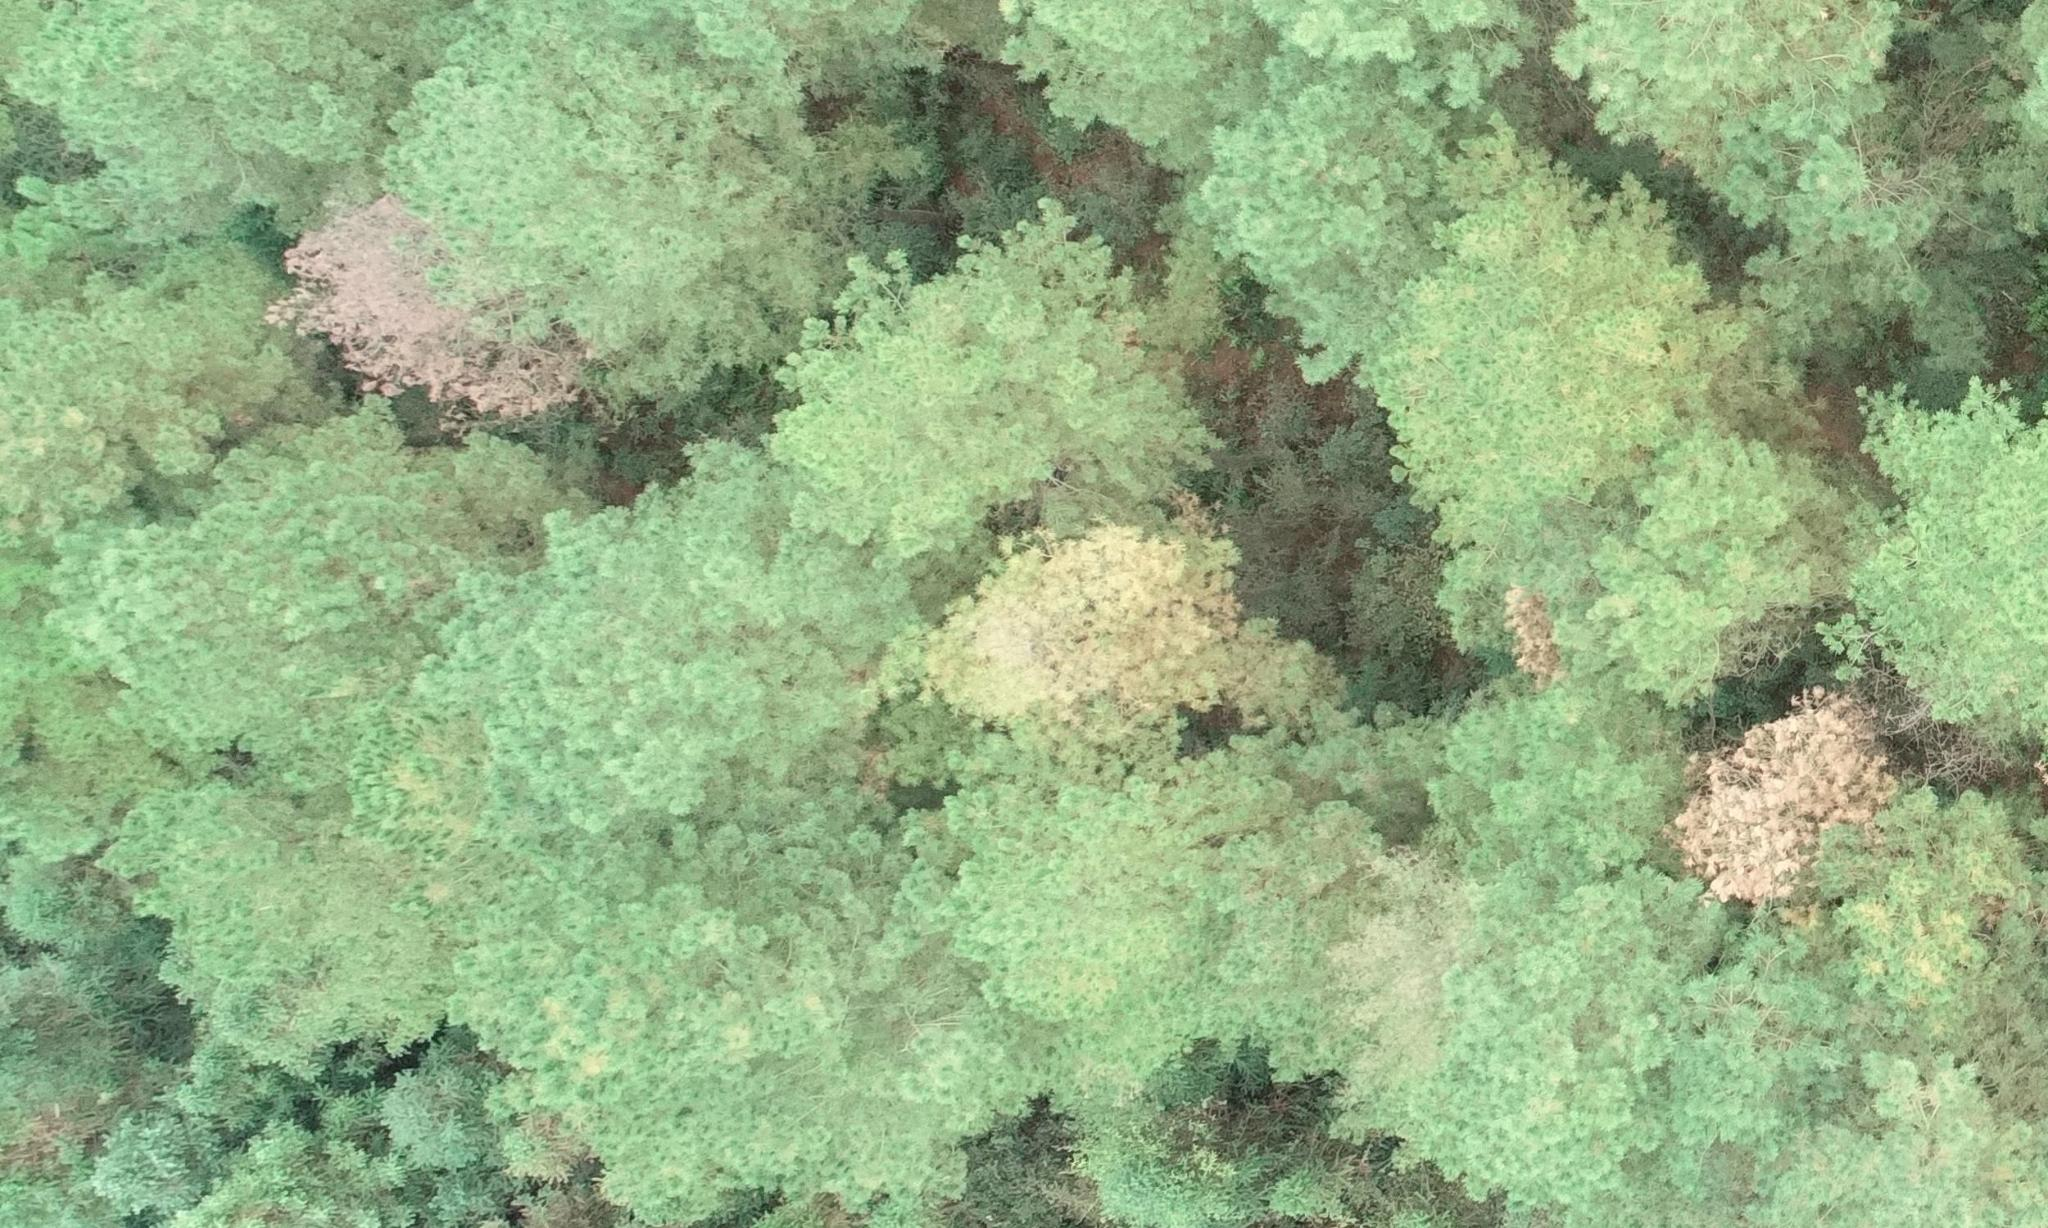heavy: (289, 173, 708, 446), (1665, 681, 1931, 915)
light: (937, 491, 1323, 763)
